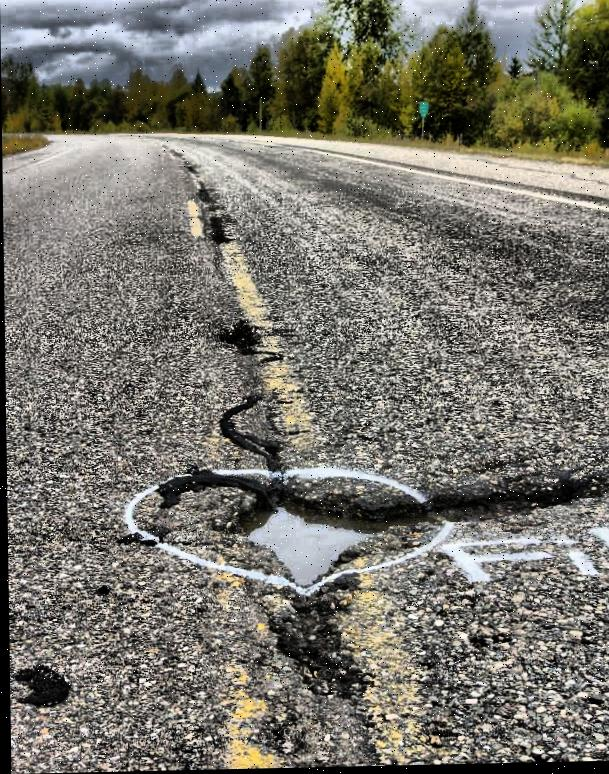pothole: (213, 460, 565, 601)
